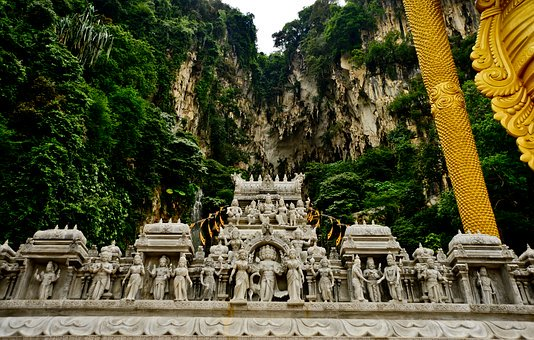Hindu Temple: (19, 168, 480, 340)
